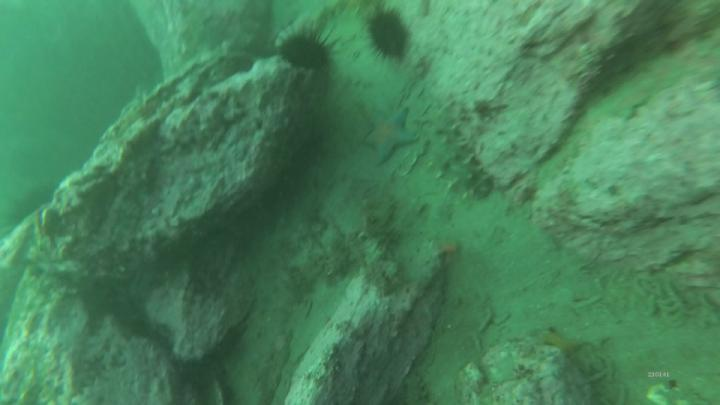echinus: (281, 36, 328, 71), (370, 16, 407, 57)
holothurian: (425, 107, 492, 198)
starfish: (366, 110, 416, 161)
